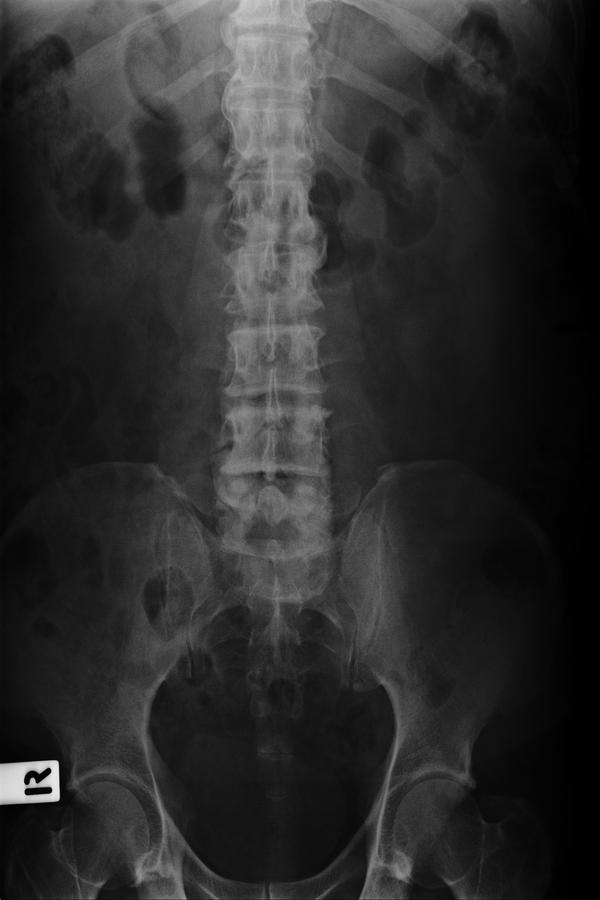not lumbar scoliosis: (211, 219, 344, 589)
